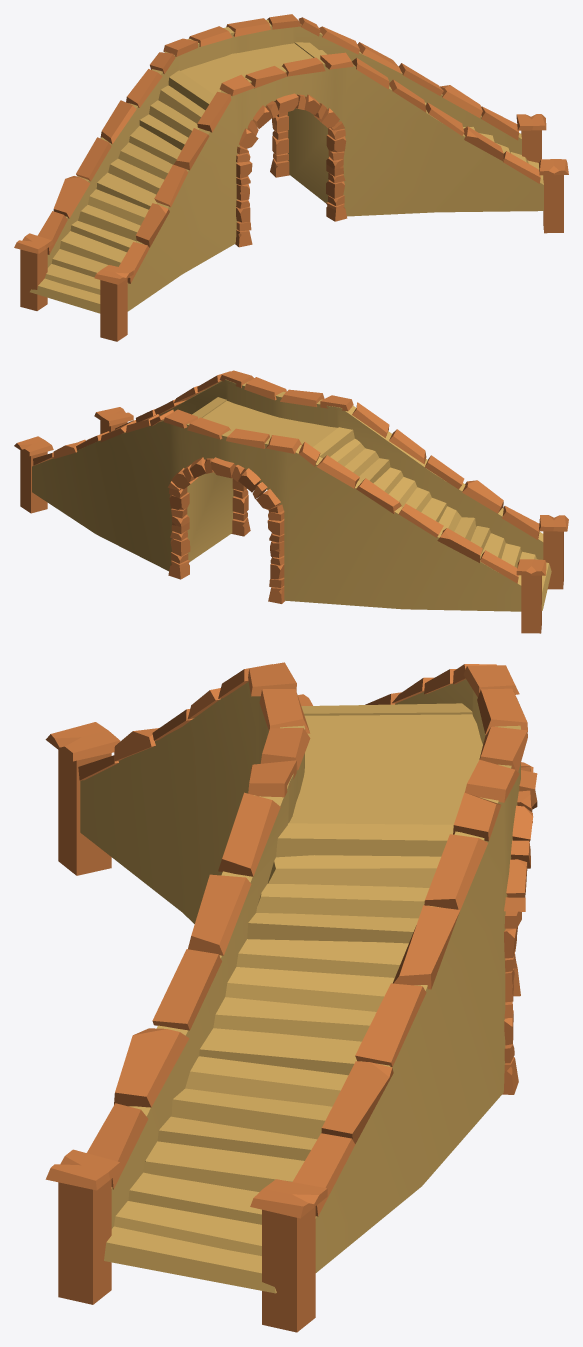
File: Center_Stairs.fbx
The picture shows the model from 3 angles, top to bottom: view 1: azimuth 30°, elevation 25°; view 2: azimuth 150°, elevation 25°; view 3: azimuth 270°, elevation 25°; orthographic projection. The views are drawn at different scales.
Visible parts, largest first — view 1: Center_Stairs; view 2: Center_Stairs; view 3: Center_Stairs.
Boxes of the visible parts, box(x1,y1,x2,y2) form: Center_Stairs: box(14, 14, 568, 341); Center_Stairs: box(14, 370, 568, 633); Center_Stairs: box(45, 662, 537, 1332).
Size of the model in its own units: 1464 by 470 by 586.
